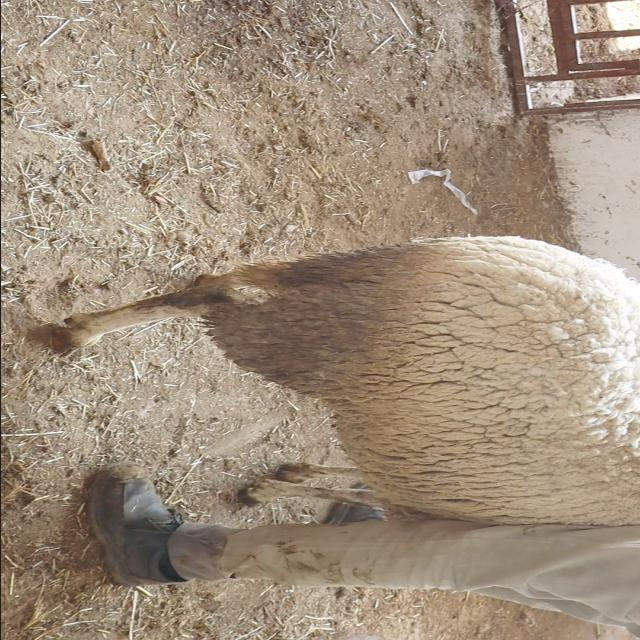Score_5: (53, 236, 640, 526)
